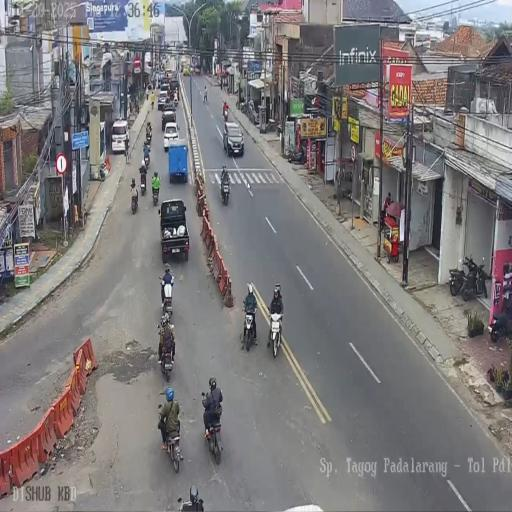car: (159, 198, 190, 260), (224, 122, 244, 158), (111, 119, 130, 154), (162, 121, 180, 151), (158, 90, 168, 110), (160, 78, 170, 92), (194, 66, 200, 75)
motorcycle: (158, 406, 182, 473), (201, 392, 223, 464), (462, 253, 486, 302), (488, 300, 512, 342), (158, 324, 175, 377), (240, 304, 258, 354), (267, 310, 283, 358), (160, 277, 173, 316), (286, 143, 306, 165), (220, 173, 231, 206), (130, 185, 139, 214), (151, 178, 160, 206), (140, 168, 148, 196), (143, 146, 150, 168), (145, 124, 152, 146), (276, 118, 282, 138), (241, 98, 248, 114), (222, 104, 228, 122), (172, 96, 178, 110)
truck: (168, 142, 188, 182), (181, 57, 191, 75), (170, 77, 179, 95), (166, 68, 172, 79)
